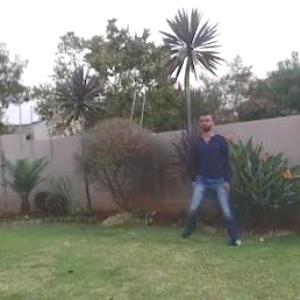follow: (192, 103, 232, 242)
